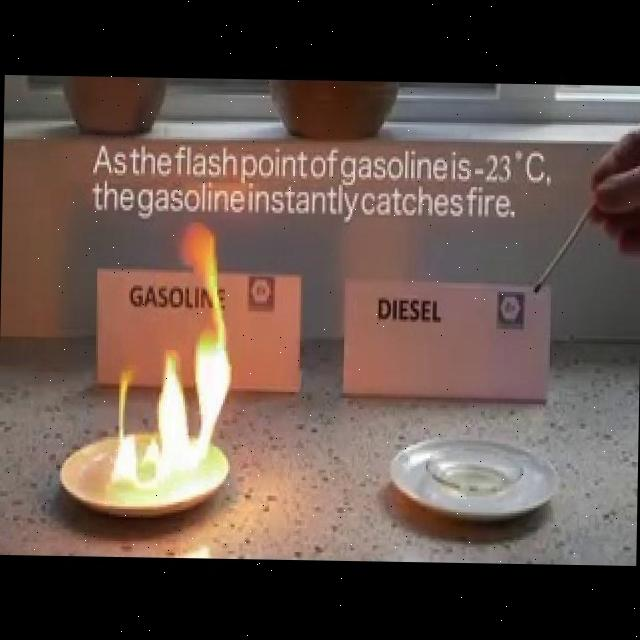fire: (110, 292, 250, 498)
